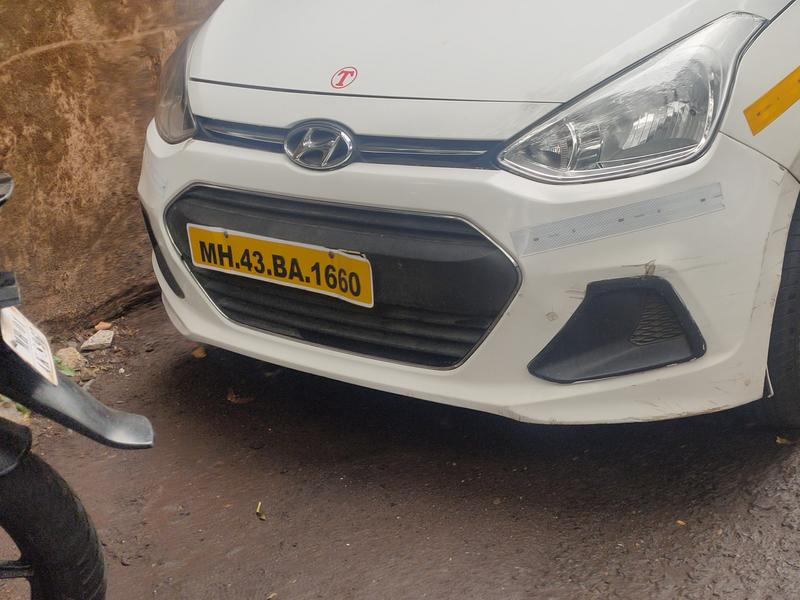license_plate: (180, 214, 378, 314)
